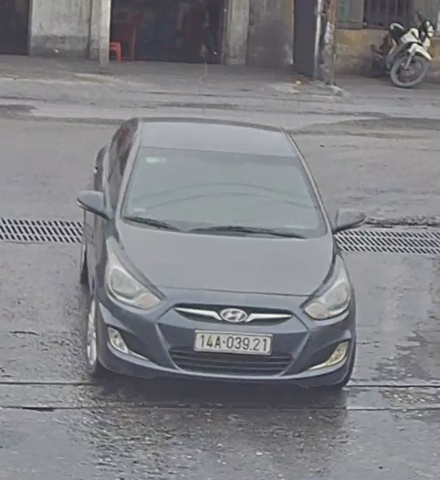vehicle plate: (189, 328, 272, 360)
